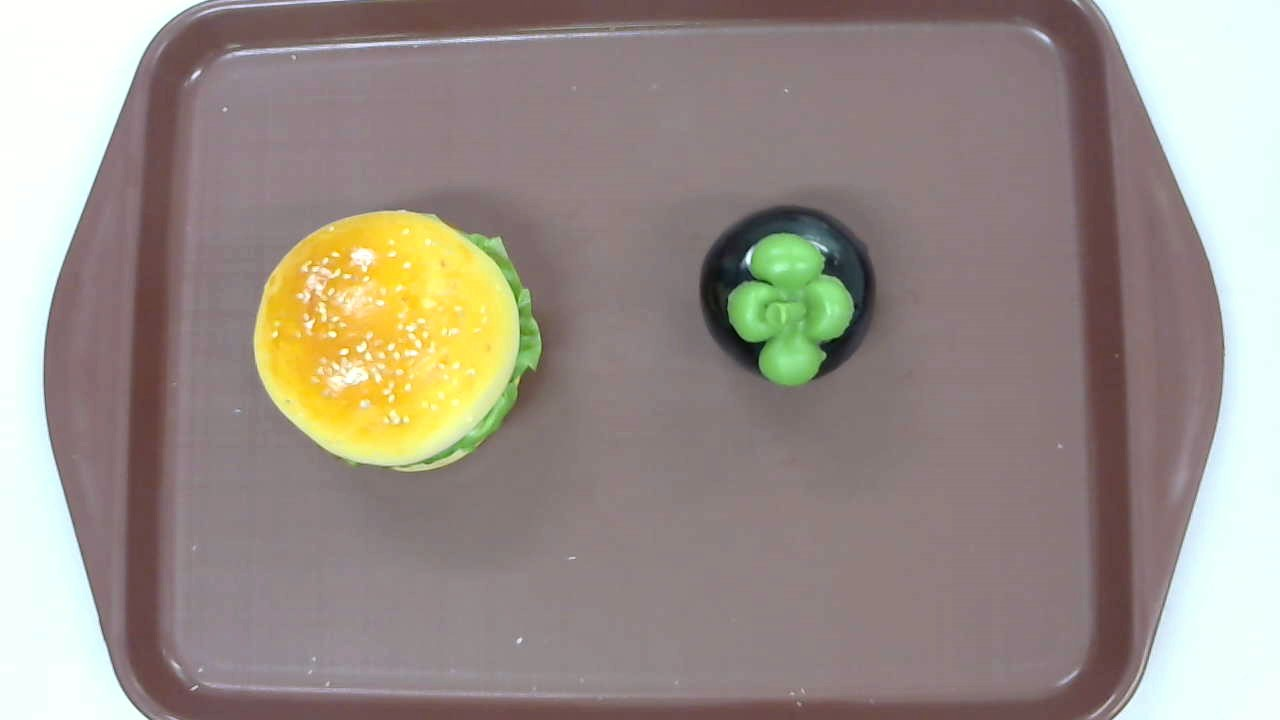hamburger: (254, 210, 540, 471)
mangosteen: (699, 204, 877, 385)
